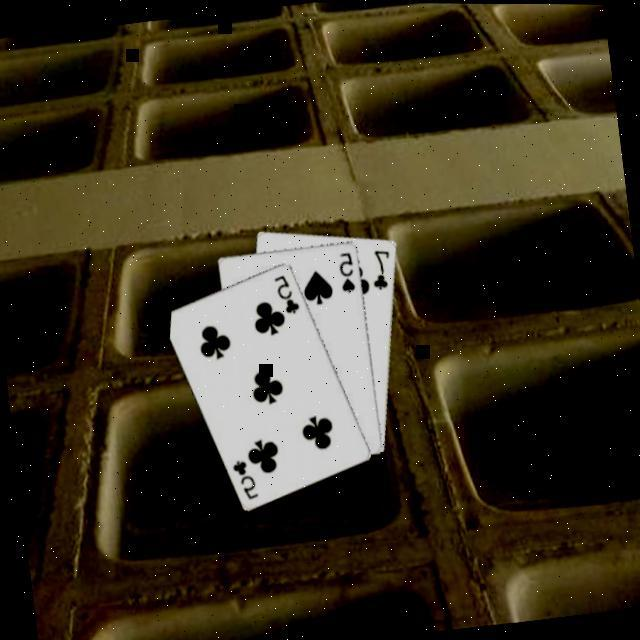5C: (269, 269, 302, 318), (226, 455, 259, 504)
5S: (332, 248, 356, 296)
7C: (364, 245, 395, 294)
